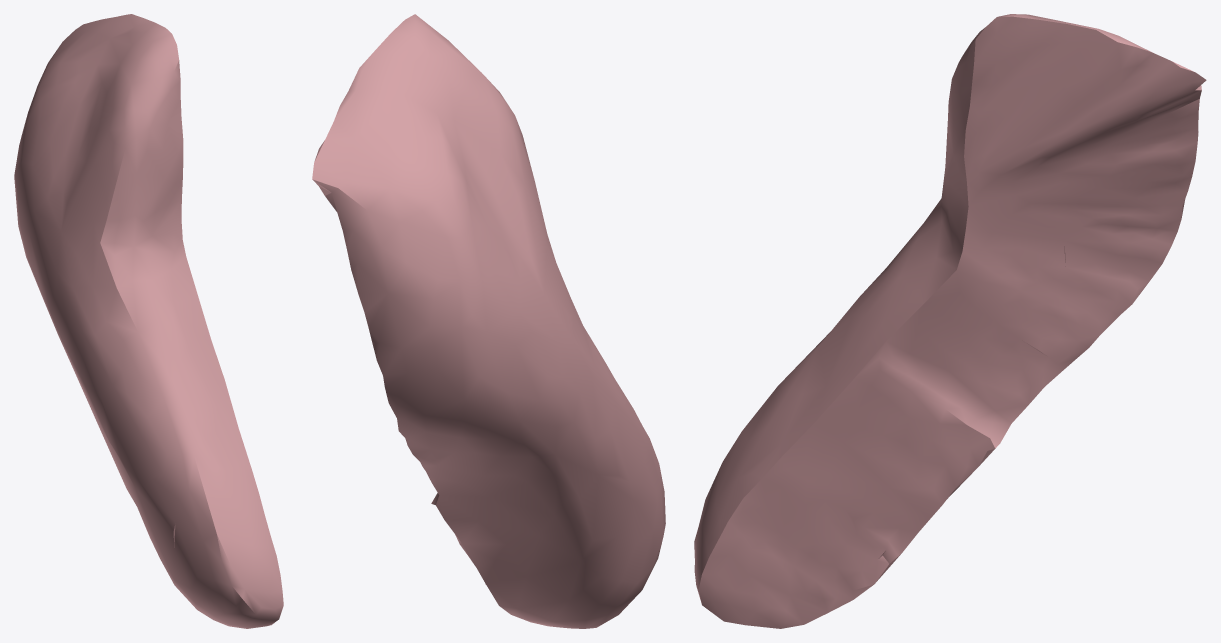
The model's file is fma72720_mm232m.glb.
3 views of the same model, side by side, from view 1: azimuth 30°, elevation 25°; view 2: azimuth 150°, elevation 25°; view 3: azimuth 270°, elevation 25° (orthographic). The views are drawn at different scales.
Visible parts, largest first — view 1: FMA72720_MM232M; view 2: FMA72720_MM232M; view 3: FMA72720_MM232M.
Boxes of the visible parts, x1,y1,x2,y2 form: FMA72720_MM232M: [14, 14, 283, 628]; FMA72720_MM232M: [312, 14, 665, 628]; FMA72720_MM232M: [694, 14, 1206, 628].
Bounding box in the file's own units: 0.00714 × 0.0302 × 0.0225.
